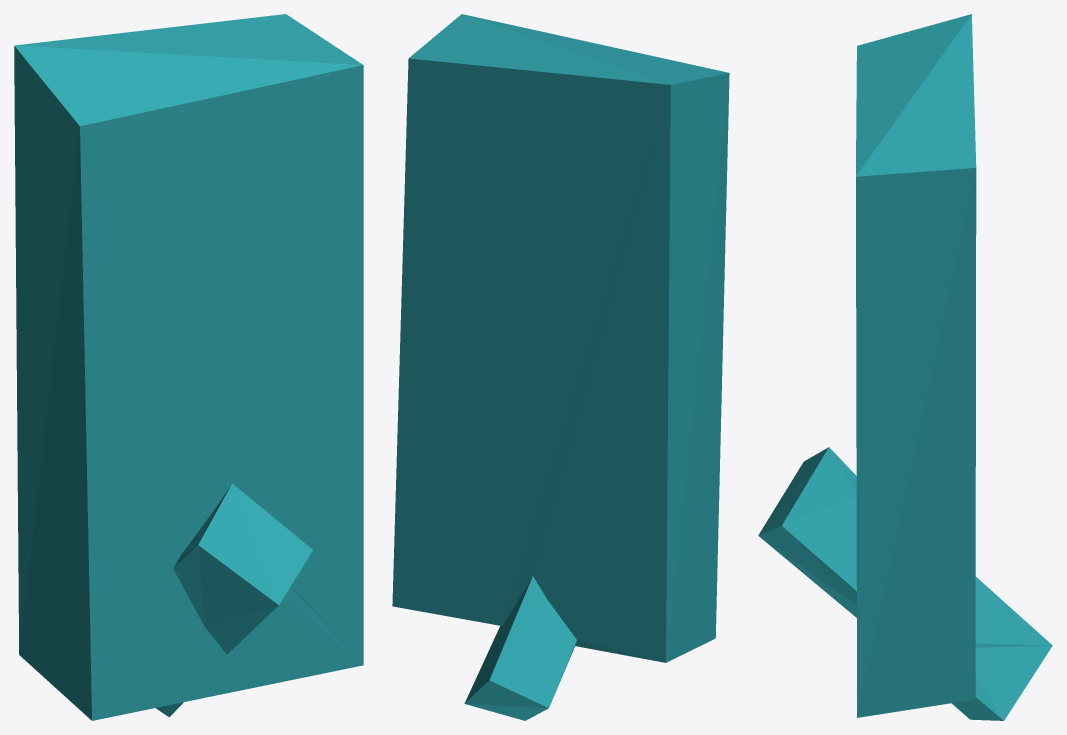
3 views of the same model, side by side, from view 1: azimuth 30°, elevation 25°; view 2: azimuth 150°, elevation 25°; view 3: azimuth 270°, elevation 25° (orthographic). The views are drawn at different scales.
Parts seen in each view (by area): view 1: 508_Cube.2053; view 2: 508_Cube.2053; view 3: 508_Cube.2053.
Boxes of the visible parts, <box> form: 508_Cube.2053: <box>14,14,363,720</box>; 508_Cube.2053: <box>392,14,729,720</box>; 508_Cube.2053: <box>758,14,1052,720</box>.
Bounding box in the file's own units: 6.02 × 13.99 × 5.86.
